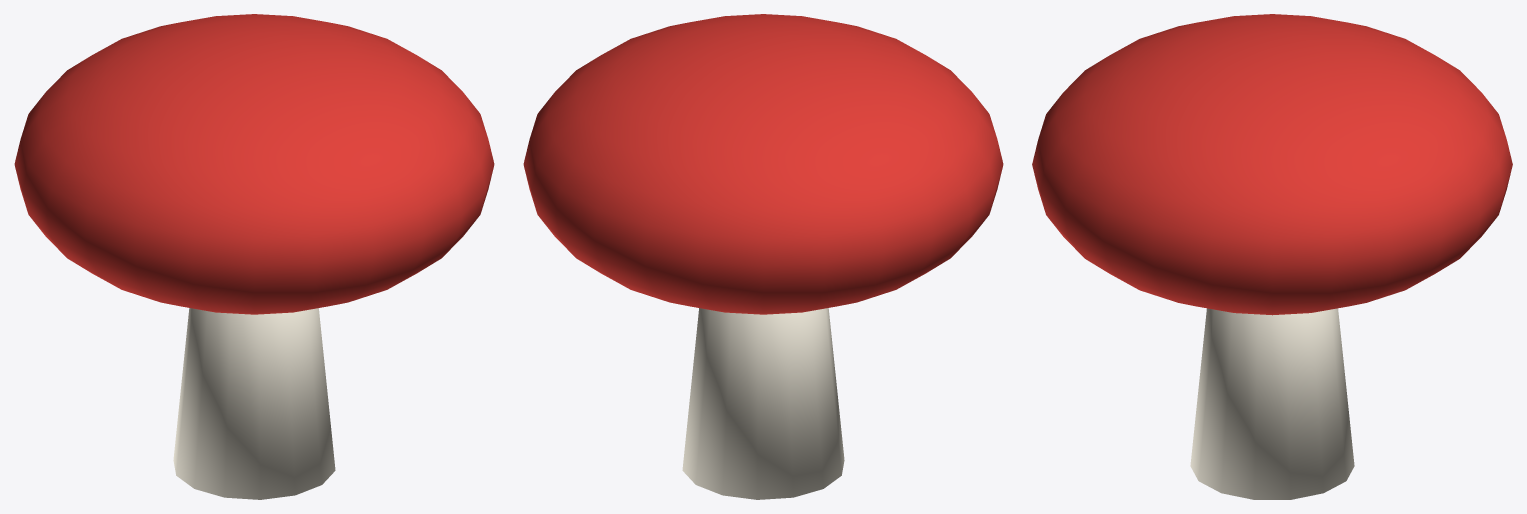
File: mushroom.glb
3 views of the same model, side by side, from view 1: azimuth 30°, elevation 25°; view 2: azimuth 150°, elevation 25°; view 3: azimuth 270°, elevation 25° (orthographic).
Parts seen in each view (by area): view 1: mushroom; view 2: mushroom; view 3: mushroom.
Boxes of the visible parts, x1=… form: mushroom: x1=14, y1=14, x2=494, y2=499; mushroom: x1=523, y1=14, x2=1003, y2=499; mushroom: x1=1032, y1=14, x2=1512, y2=499.
Bounding box in the file's own units: 1 × 0.9482 × 1.
